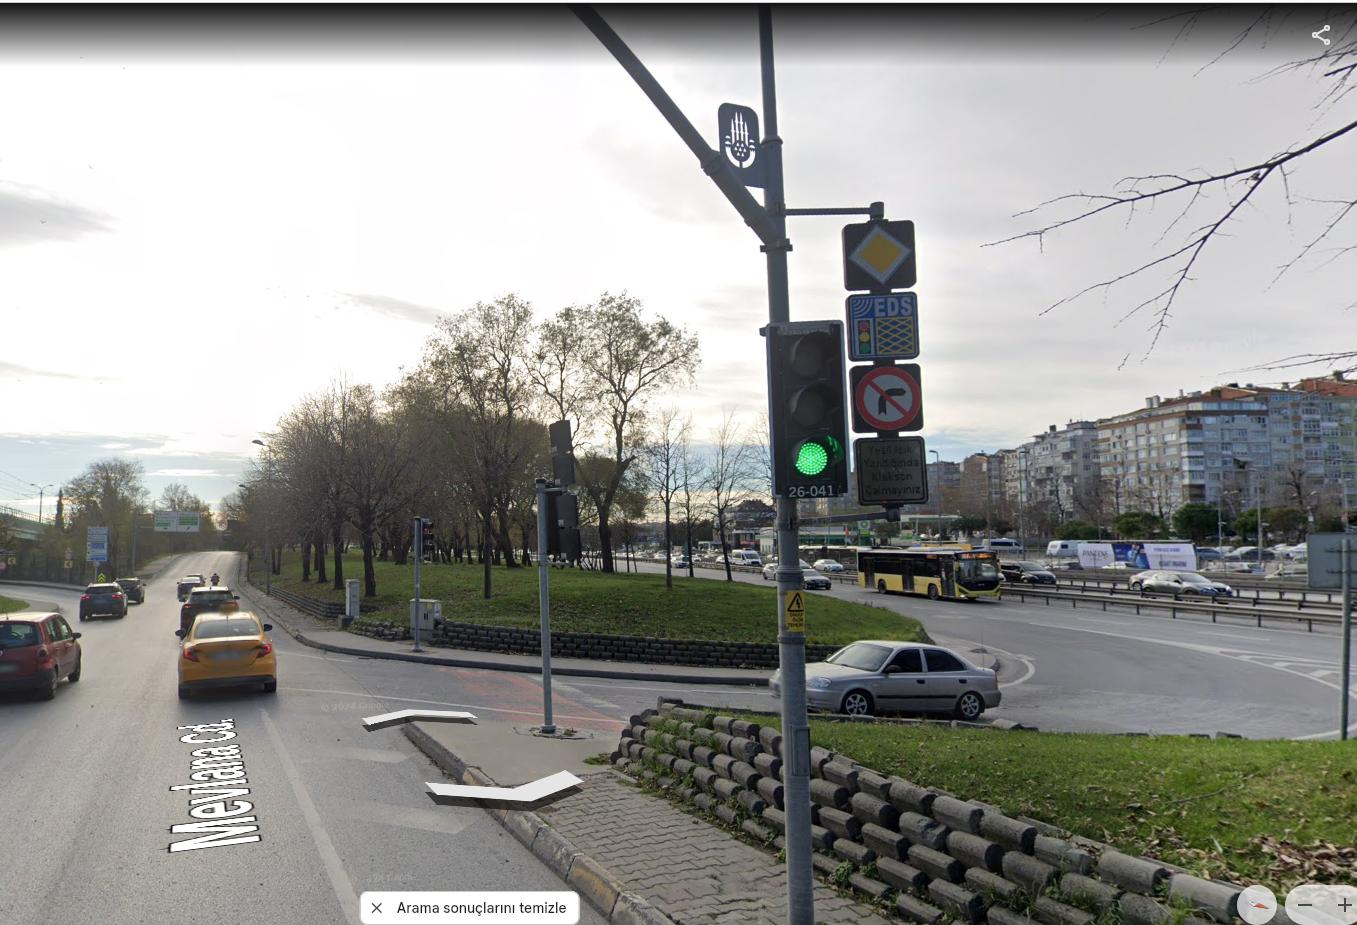greenlight: (769, 330, 845, 476)
rightturnsareforbidden: (855, 369, 918, 432)
